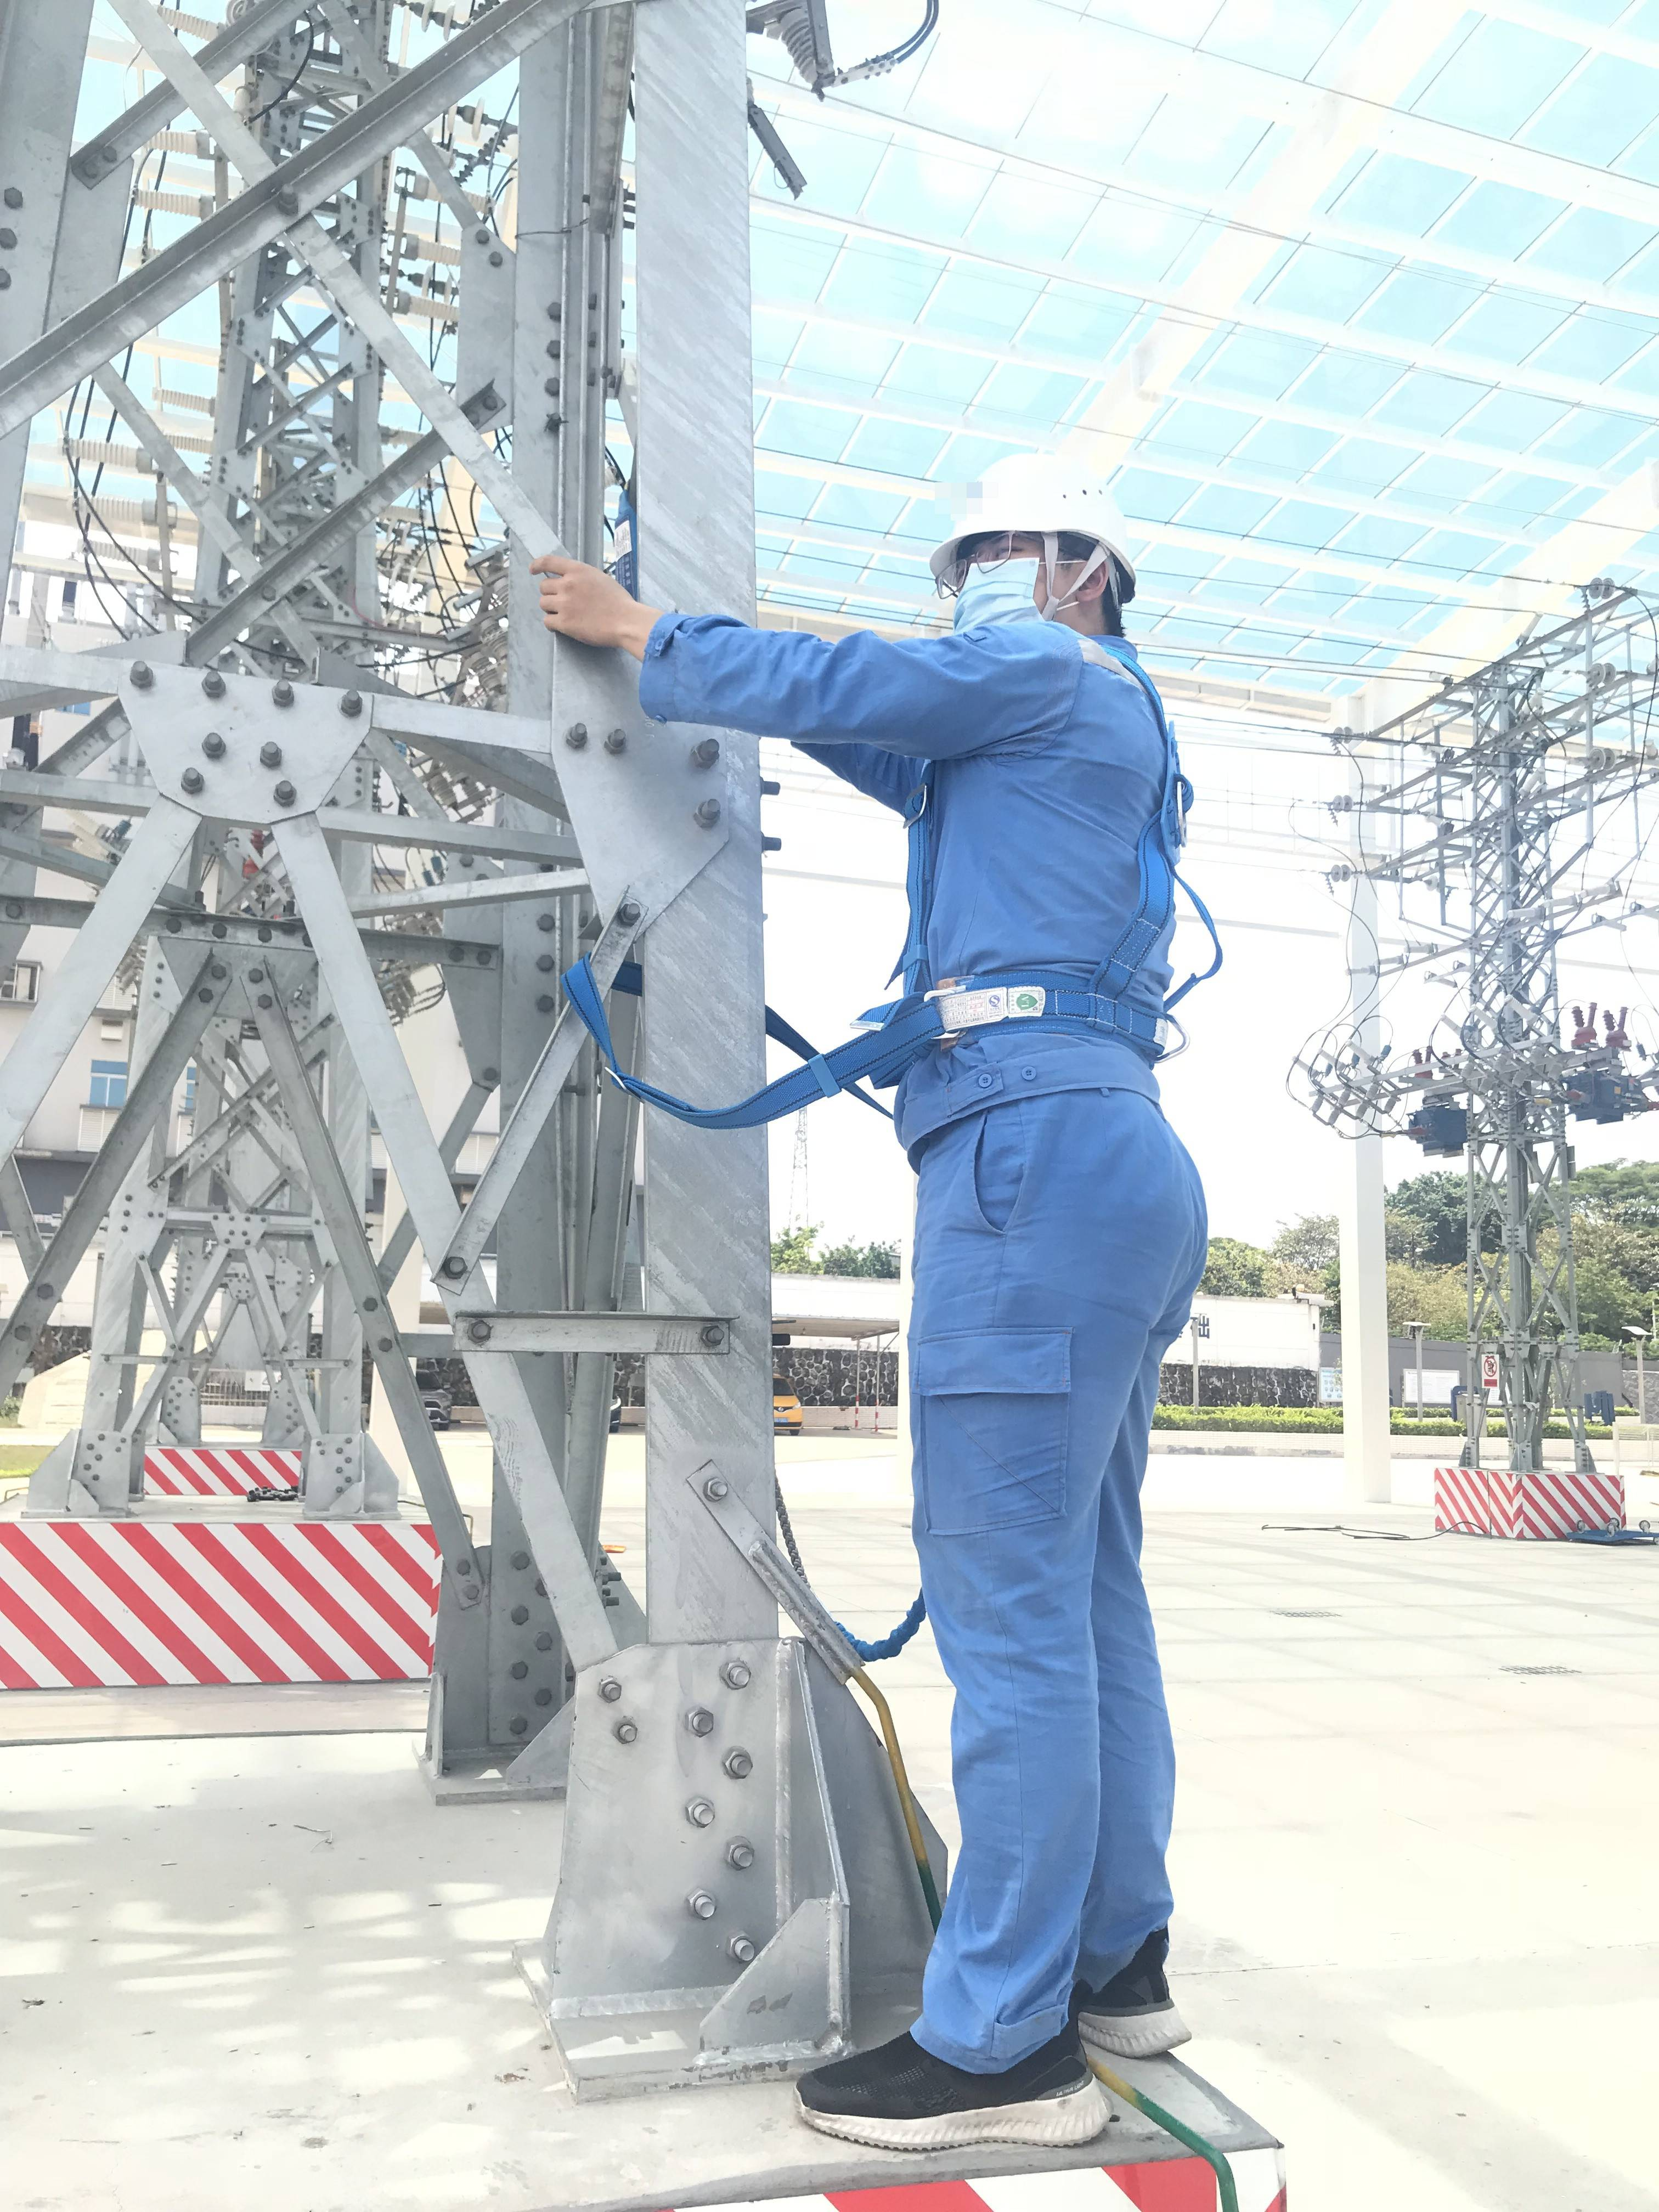downsuit: (887, 1125, 1208, 2040)
upsuit: (739, 606, 1173, 1108)
